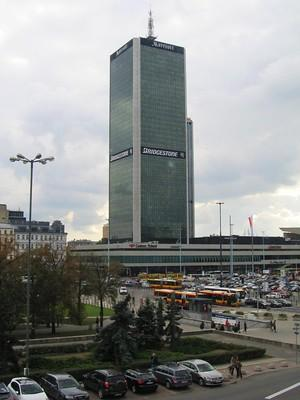building: (103, 34, 194, 250)
